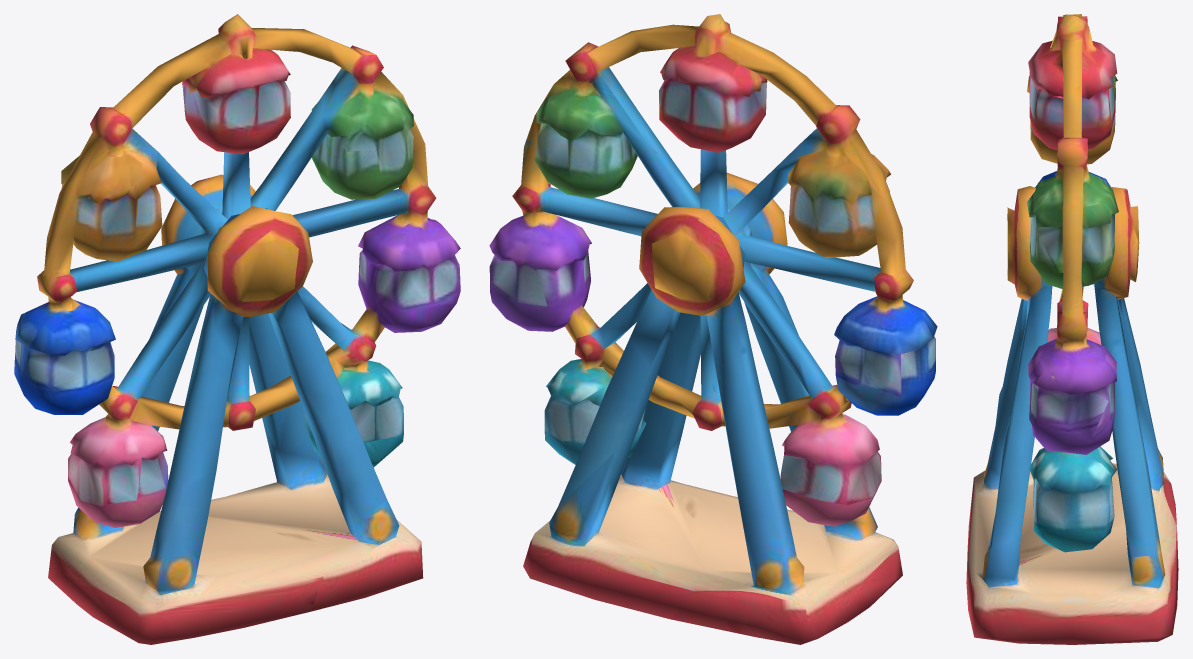
Rendered from ferris.glb.
3 views of the same model, side by side, from view 1: azimuth 30°, elevation 25°; view 2: azimuth 150°, elevation 25°; view 3: azimuth 270°, elevation 25° (orthographic).
Visible parts, largest first — view 1: model; view 2: model; view 3: model.
Part boxes in pixels (left/top/right/bottom): model: left=14, top=14, right=460, bottom=644; model: left=489, top=14, right=937, bottom=644; model: left=966, top=14, right=1178, bottom=644.
Bounding box in the file's own units: 1.51 × 1.9 × 0.6497.
1 material, 1 textured.
